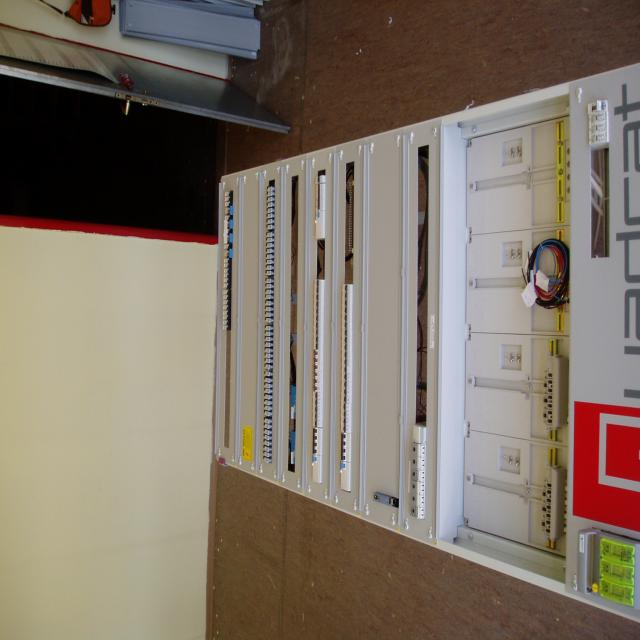Dimmer: (292, 385, 296, 419), (291, 431, 295, 465)
Leitungsschutzschalter: (314, 210, 326, 239), (316, 184, 326, 211), (340, 425, 352, 433), (340, 410, 352, 418), (341, 306, 353, 314), (313, 314, 324, 322), (341, 402, 352, 410), (341, 380, 352, 388), (341, 358, 352, 366), (342, 299, 354, 306), (340, 418, 352, 425), (341, 329, 353, 336), (314, 300, 324, 308), (341, 454, 351, 462), (342, 291, 352, 299), (342, 344, 352, 352), (342, 314, 352, 322), (341, 395, 352, 402), (341, 388, 352, 395), (341, 336, 352, 343), (313, 440, 322, 448), (342, 434, 352, 441), (342, 373, 352, 380), (342, 366, 352, 373), (342, 351, 352, 358), (342, 322, 352, 329), (313, 322, 324, 328), (342, 285, 353, 291), (313, 434, 322, 441), (313, 447, 322, 454), (342, 440, 351, 447), (315, 177, 325, 183), (314, 280, 324, 286), (314, 287, 324, 293), (314, 294, 324, 300), (314, 308, 324, 314), (314, 336, 324, 342), (314, 329, 324, 335), (313, 428, 323, 434), (341, 448, 351, 454), (313, 343, 323, 349)
Relais: (264, 363, 273, 371), (264, 456, 272, 464), (264, 410, 272, 417), (264, 382, 273, 388), (264, 376, 273, 382), (265, 317, 274, 323), (265, 311, 274, 317), (265, 300, 274, 306), (265, 294, 274, 300), (264, 336, 274, 341), (264, 450, 271, 457), (264, 444, 272, 450), (264, 422, 272, 428), (264, 404, 272, 410), (264, 393, 272, 399), (265, 352, 273, 358), (265, 341, 273, 347), (265, 330, 273, 336), (266, 242, 274, 248), (266, 248, 274, 254), (266, 254, 274, 260), (266, 259, 274, 265), (266, 270, 274, 276), (266, 218, 275, 223), (263, 434, 272, 439), (263, 428, 272, 433), (264, 388, 273, 393), (264, 371, 273, 376), (264, 358, 273, 363), (265, 325, 274, 330), (265, 278, 274, 283), (265, 284, 274, 289), (265, 306, 274, 311), (267, 231, 274, 237), (264, 439, 271, 445), (267, 191, 275, 196), (267, 202, 275, 207), (266, 208, 274, 213), (266, 224, 274, 229), (264, 417, 272, 422), (264, 399, 272, 404), (265, 347, 273, 352), (266, 265, 274, 270), (266, 238, 275, 242), (265, 290, 274, 294), (267, 187, 275, 191), (267, 197, 275, 201), (266, 214, 274, 218)
Schaltkasten: (213, 63, 640, 625)
